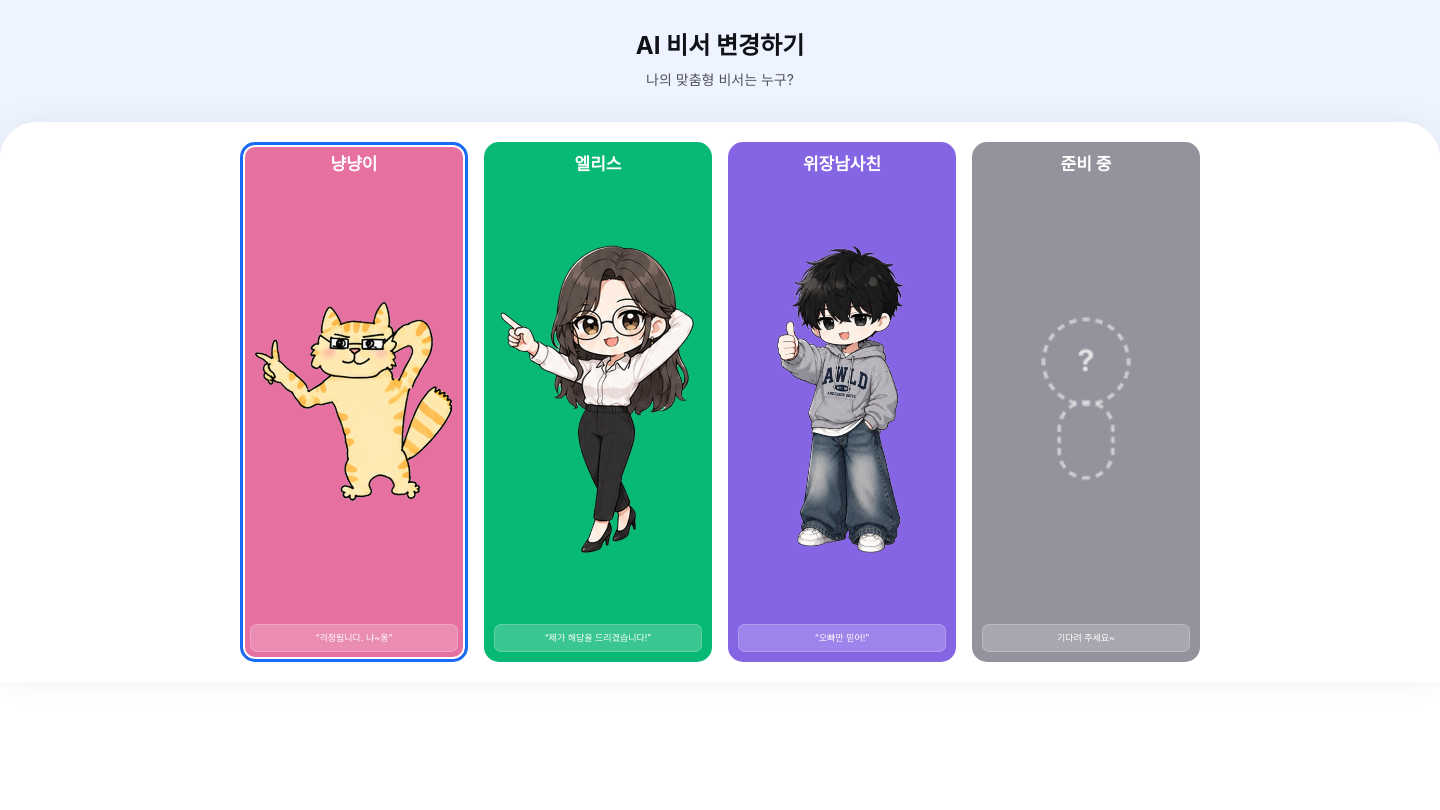
Test: SecretaryChangeView › 준비 중 비서를 누르면 안내한다
What coordinates should you click on to do the following:
click the button with class "secretary-card" showing "준비 중 기다려 주세요~"
I would click on:
 (1086, 402)
Its box is [972,142,1200,662].
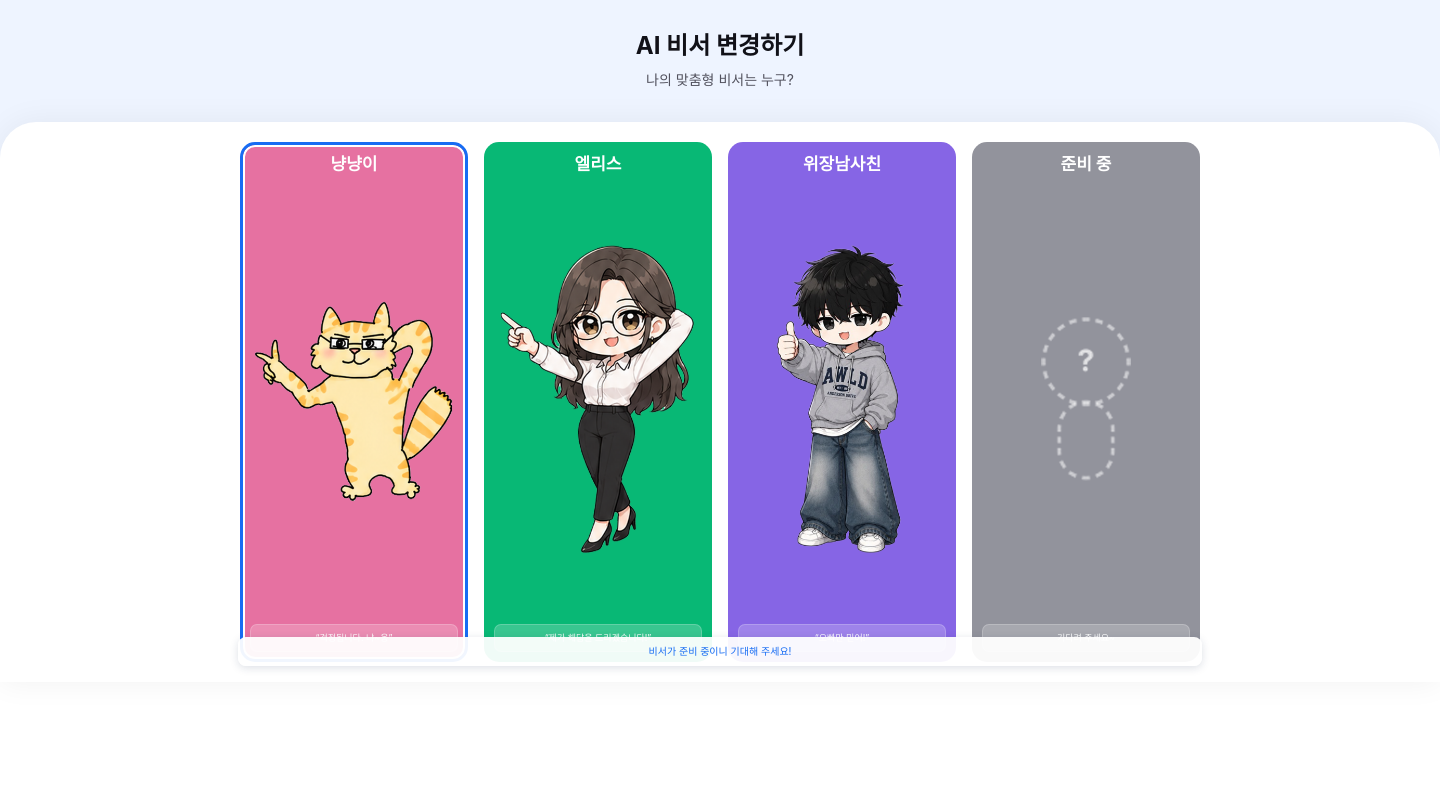
Check: the message "비서가 준비 중이니 기대해 주세요!" is shown, box [238,636,1202,666]
